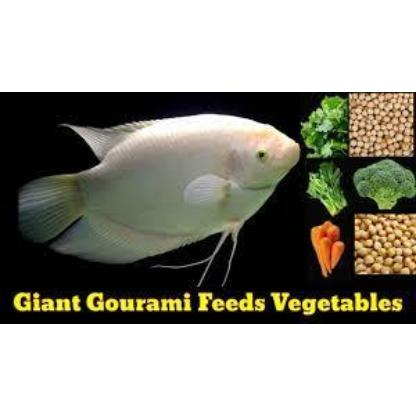gurame: (18, 113, 302, 279)
